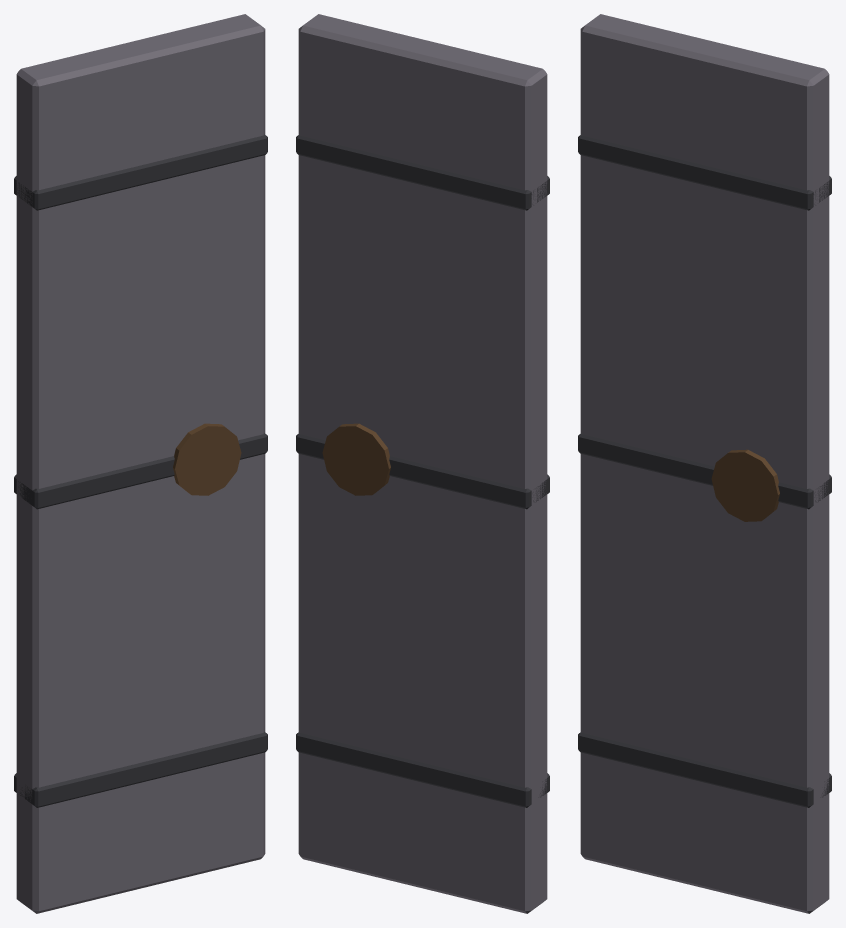
The model's file is Bld_Lab_EchoGate_LeafL.glb.
3 views of the same model, side by side, from view 1: azimuth 30°, elevation 25°; view 2: azimuth 150°, elevation 25°; view 3: azimuth 330°, elevation 25° (orthographic).
Visible parts, largest first — view 1: Bld_Lab_EchoGate_LeafL; view 2: Bld_Lab_EchoGate_LeafL; view 3: Bld_Lab_EchoGate_LeafL.
Part boxes in pixels (box(x1,y1,x2,y2)): Bld_Lab_EchoGate_LeafL: box(14, 14, 267, 913); Bld_Lab_EchoGate_LeafL: box(296, 14, 549, 913); Bld_Lab_EchoGate_LeafL: box(578, 14, 831, 913).
Size of what is drawn, in the model's own units: 0.98 by 3.35 by 0.2.
